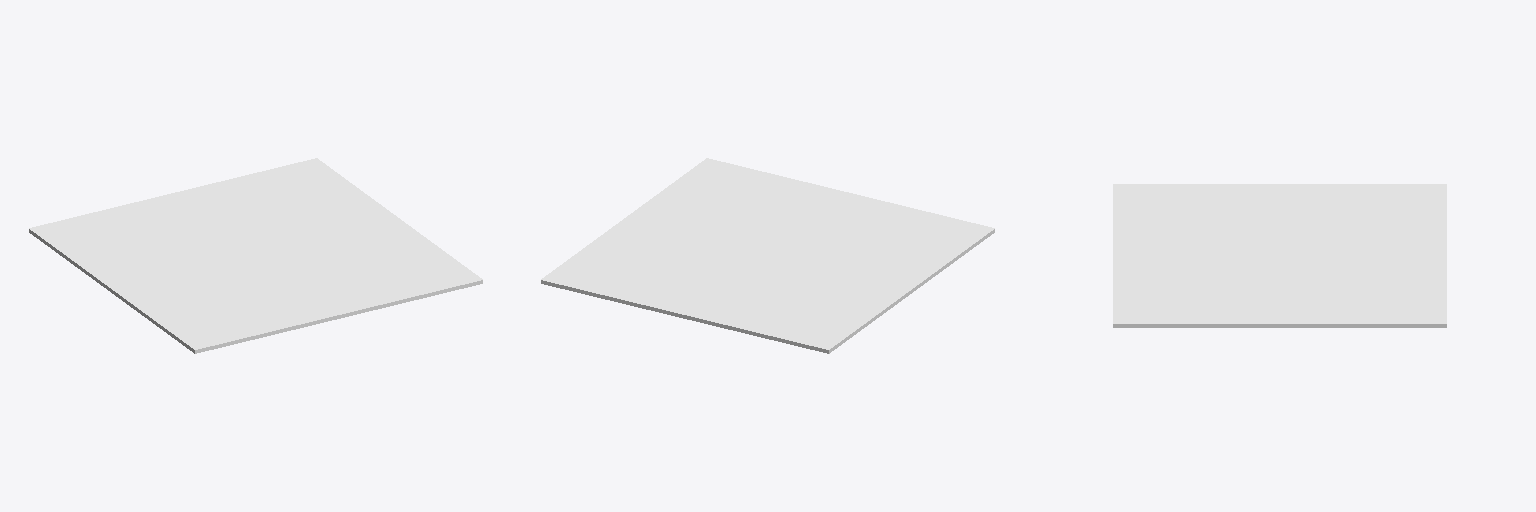
The model's file is agua.obj.
3 views of the same model, side by side, from view 1: azimuth 30°, elevation 25°; view 2: azimuth 150°, elevation 25°; view 3: azimuth 270°, elevation 25° (orthographic).
Size of the model in its own units: 80 by 1 by 80.